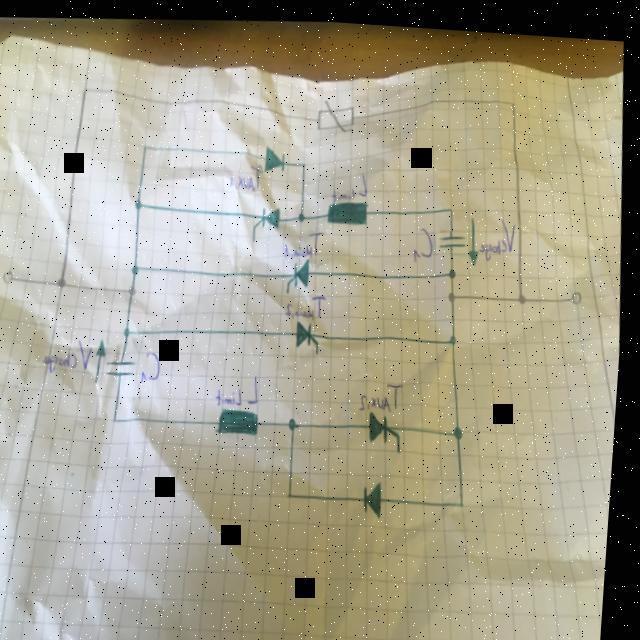capacitor: (109, 353, 142, 378), (440, 222, 470, 248)
diode: (366, 472, 390, 513), (264, 138, 289, 168)
inductor: (219, 400, 266, 433), (327, 192, 372, 222)
junction: (457, 416, 469, 434), (292, 410, 304, 426), (520, 284, 532, 298), (60, 273, 71, 287), (131, 281, 141, 294), (133, 260, 143, 273), (299, 205, 309, 218), (450, 283, 460, 295), (451, 259, 460, 271), (136, 196, 145, 206), (127, 323, 135, 333), (453, 327, 461, 337), (82, 82, 90, 91), (116, 412, 124, 421), (464, 492, 471, 500), (292, 486, 299, 494), (143, 140, 150, 147), (450, 198, 456, 205), (302, 155, 308, 162), (511, 92, 517, 98)
terminal: (571, 279, 587, 297), (4, 266, 19, 285)
text: (44, 333, 100, 374), (478, 207, 520, 255), (218, 366, 266, 405), (361, 372, 411, 407), (284, 222, 330, 256), (286, 286, 332, 317), (333, 163, 372, 198), (229, 156, 267, 189), (412, 218, 438, 258), (142, 345, 167, 381)
thyristor: (370, 402, 409, 444), (287, 251, 315, 289), (253, 200, 285, 232), (297, 313, 325, 349)
